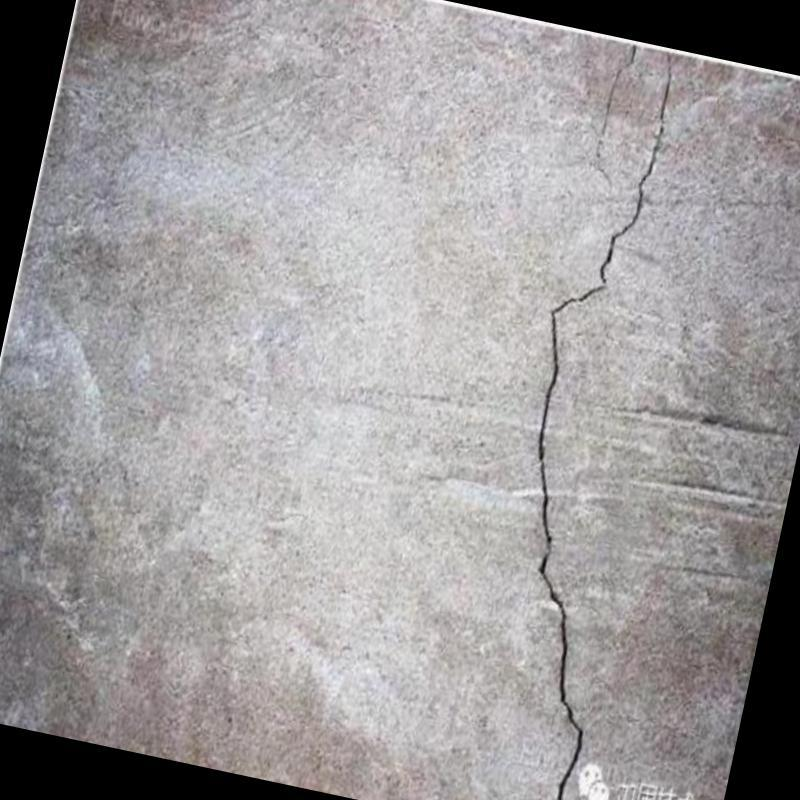pothole: (536, 68, 672, 800), (595, 45, 638, 176)
